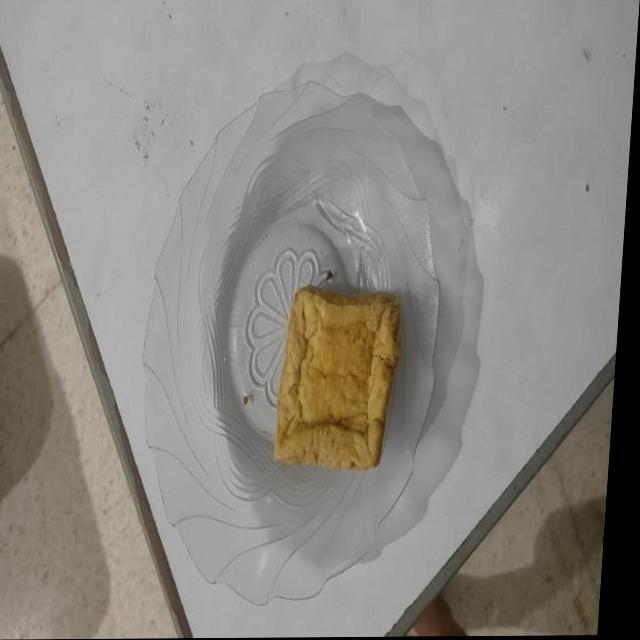tahu_goreng: (274, 286, 400, 470)
